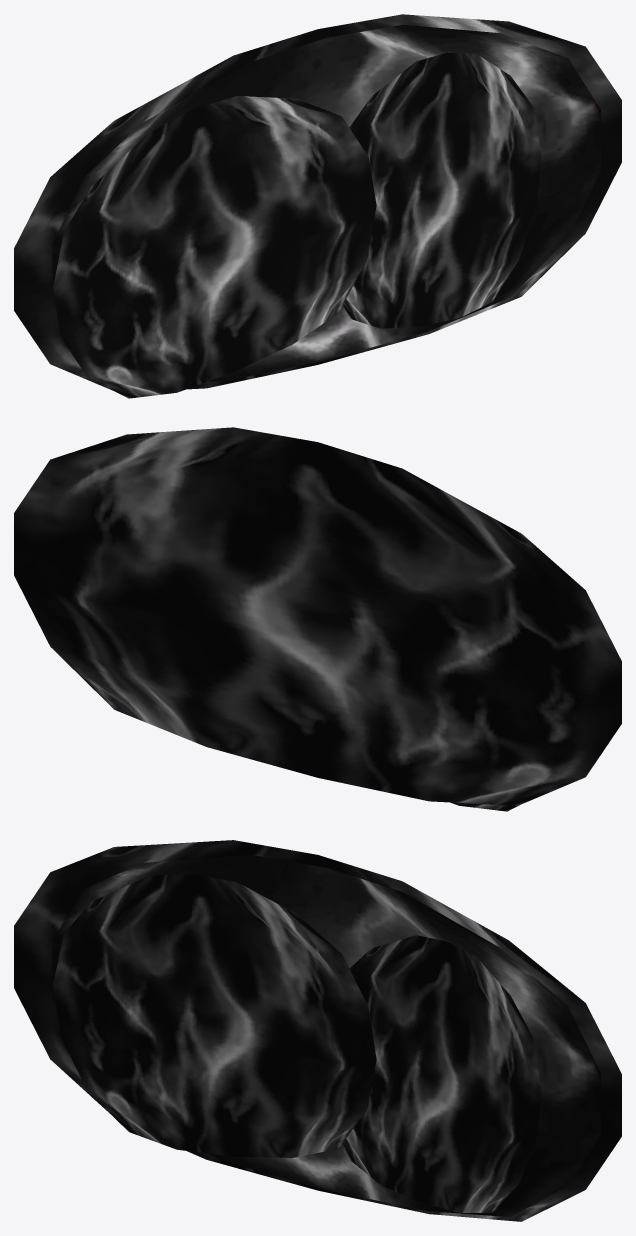
Rendered from SeaOfDeathMainDlg.fbx.
The picture shows the model from 3 angles, top to bottom: view 1: azimuth 30°, elevation 25°; view 2: azimuth 150°, elevation 25°; view 3: azimuth 330°, elevation 25°; orthographic projection.
Visible parts, largest first — view 1: Mesh_Aura04, Mesh_Aura03, Mesh_Aura02, Mesh_Aura01; view 2: Mesh_Aura01; view 3: Mesh_Aura04, Mesh_Aura03, Mesh_Aura02, Mesh_Aura01.
Part boxes in pixels (box(x1,y1,x2,y2)): Mesh_Aura04: box(53, 96, 376, 398); Mesh_Aura03: box(342, 52, 541, 328); Mesh_Aura02: box(52, 24, 600, 381); Mesh_Aura01: box(14, 14, 621, 389); Mesh_Aura01: box(14, 427, 621, 805); Mesh_Aura04: box(53, 874, 376, 1157); Mesh_Aura03: box(343, 935, 541, 1212); Mesh_Aura02: box(52, 854, 600, 1217); Mesh_Aura01: box(14, 840, 621, 1221).
Bounding box in the file's own units: 1037 × 547 × 0.000807.
Materials: 2 (2 with a texture image).
